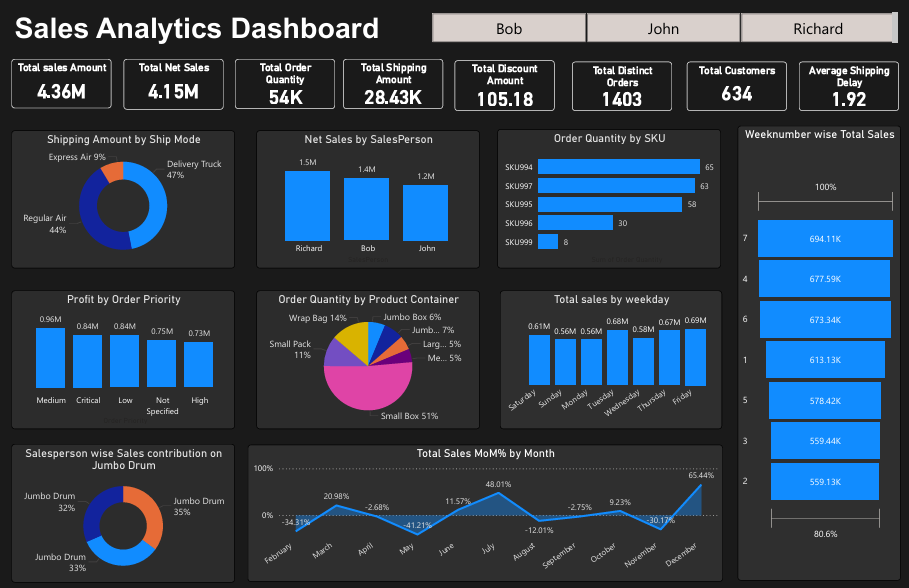

This screenshot's page, from the dashboard's own definition file:
{"tool":"powerbi","page":{"name":" Dashboard","canvas":[1366,900],"ordinal":0},"visuals":[{"type":"card","title":"Total sales Amount","fields":{"Values":["sales_2014.Total sales Amount"]},"box":[20,88,150,74],"z":0},{"type":"card","title":"Average Shipping Delay","fields":{"Values":["sales_2014.Average Shipping Delay"]},"box":[1200,92,150,74],"z":1000},{"type":"card","title":"Total Net Sales","fields":{"Values":["sales_2014.Total Net Sales"]},"box":[188,88,150,76],"z":2000},{"type":"card","title":"Total Order Quantity","fields":{"Values":["sales_2014.Total Order Quantity"]},"box":[355,88.3,150,75],"z":3000},{"type":"card","title":"Total Shipping Amount","fields":{"Values":["sales_2014.Total Shipping Amount"]},"box":[516.7,88.3,150,75],"z":4000},{"type":"card","title":"Total Discount Amount","fields":{"Values":["sales_2014.Total Discount Amount"]},"box":[684,90,150,76],"z":5000},{"type":"card","title":"Total Customers","fields":{"Values":["sales_2014.Total Customers"]},"box":[1032,92,150,74],"z":6000},{"type":"card","title":"Total Distinct Orders","fields":{"Values":["sales_2014.Total Distinct Orders"]},"box":[860,92,150,74],"z":7000},{"type":"donutChart","title":" Shipping Amount by Ship Mode","fields":{"Category":["sales_2014.Ship Mode"],"Y":["Sum(sales_2014.Shipping Amount)"]},"box":[20,195,335,206.7],"z":8000},{"type":"columnChart","title":"Net Sales by SalesPerson","fields":{"Category":["sales_2014.SalesPerson"],"Y":["Sum(sales_2014.Net Sales)"]},"box":[386.7,195,335,206.7],"z":9000},{"type":"columnChart","title":"Profit by Order Priority","fields":{"Category":["sales_2014.Order Priority"],"Y":["Sum(sales_2014.Profit)"]},"box":[20,435,335,208.3],"z":10000},{"type":"pieChart","title":"Order Quantity by Product Container","fields":{"Y":["Sum(sales_2014.Order Quantity)"],"Series":["sales_2014.Product Container"]},"box":[386.7,435,335,208.3],"z":11000},{"type":"clusteredBarChart","title":" Order Quantity by SKU","fields":{"Category":["sales_2014.SKU"],"Y":["Sum(sales_2014.Order Quantity)"]},"box":[748.3,193.3,335,208.3],"z":12000},{"type":"clusteredColumnChart","title":"Total sales by weekday","fields":{"Category":["sales_2014.weekday_Name"],"Y":["Sum(sales_2014.Volume)"]},"box":[751.7,435,333.3,208.3],"z":13000},{"type":"donutChart","title":" Salesperson wise Sales contribution on Jumbo Drum","fields":{"Category":["sales_2014.SalesPerson"],"Y":["Sum(sales_2014.Order Quantity)"],"Series":["sales_2014.Product Container"]},"box":[20,665,335,207.5],"z":14000},{"type":"funnel","title":"Weeknumber wise Total Sales ","fields":{"Category":["sales_2014.weekday(IN.DAY)"],"Y":["Sum(sales_2014.Volume)"]},"box":[1107.5,187.5,245,682.5],"z":15000},{"type":"areaChart","title":"Total Sales MoM% by Month","fields":{"Category":["sales_2014.Order Date.Variation.Date Hierarchy.Month"],"Y":["sales_2014.Sum of Volume MoM%"]},"box":[374,666,712,206],"z":16000},{"type":"slicer","title":"    salesperson","fields":{"Values":["sales_2014.SalesPerson"]},"box":[625,12.5,742.5,57.5],"z":17000},{"type":"textbox","box":[20,12.5,1332.5,57.5],"z":18000}]}

Visuals, with their boxes in screenshot pixels (x1, y1, x2, y2), scaled from the page's 1366x900 canvas onto the 909x588 screenshot:
"Total sales Amount" card: 13, 57, 113, 106
"Average Shipping Delay" card: 799, 60, 898, 108
"Total Net Sales" card: 125, 57, 225, 107
"Total Order Quantity" card: 236, 58, 336, 107
"Total Shipping Amount" card: 344, 58, 444, 107
"Total Discount Amount" card: 455, 59, 555, 108
"Total Customers" card: 687, 60, 787, 108
"Total Distinct Orders" card: 572, 60, 672, 108
" Shipping Amount by Ship Mode" donutChart: 13, 127, 236, 262
"Net Sales by SalesPerson" columnChart: 257, 127, 480, 262
"Profit by Order Priority" columnChart: 13, 284, 236, 420
"Order Quantity by Product Container" pieChart: 257, 284, 480, 420
" Order Quantity by SKU" clusteredBarChart: 498, 126, 721, 262
"Total sales by weekday" clusteredColumnChart: 500, 284, 722, 420
" Salesperson wise Sales contribution on Jumbo Drum" donutChart: 13, 434, 236, 570
"Weeknumber wise Total Sales " funnel: 737, 122, 900, 568
"Total Sales MoM% by Month" areaChart: 249, 435, 723, 570
"    salesperson" slicer: 416, 8, 908, 46
textbox: 13, 8, 900, 46
